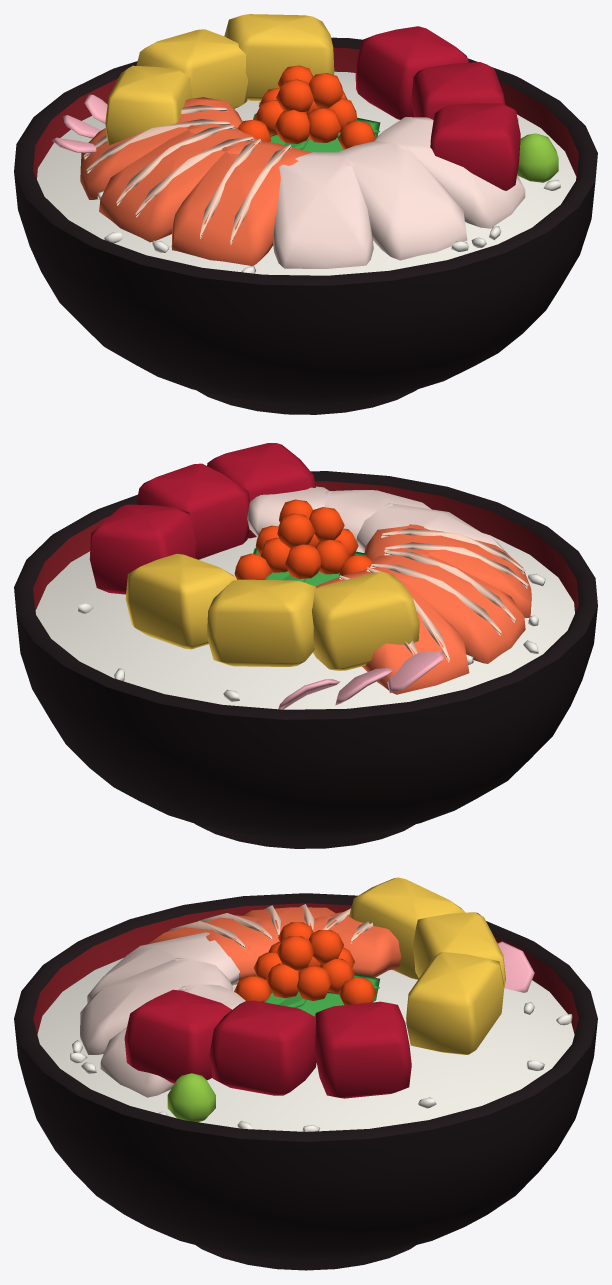
The picture shows the model from 3 angles, top to bottom: view 1: azimuth 30°, elevation 25°; view 2: azimuth 150°, elevation 25°; view 3: azimuth 270°, elevation 25°; orthographic projection.
Visible parts, largest first — view 1: bowl_outer, whitefish (×3), salmon (×3), tamago (×3), tuna (×3), rice, bowl_rim, ikura (×6), salmon_fat (×5), bowl_inner, wasabi, shiso; view 2: bowl_outer, rice, tamago (×3), tuna (×3), salmon (×3), bowl_rim, whitefish (×3), bowl_inner, ikura (×6), salmon_fat (×4), ginger (×3); view 3: bowl_outer, rice, tuna (×3), tamago (×3), bowl_rim, whitefish (×3), salmon (×3), ikura (×7), bowl_inner, wasabi, ginger, shiso.
Part boxes in pixels (box(x1,y1,x2,y2)): bowl_outer: box(14, 172, 595, 414); whitefish (×3): box(273, 117, 525, 268); salmon (×3): box(80, 97, 311, 265); tamago (×3): box(105, 14, 334, 145); tuna (×3): box(355, 26, 520, 190); rice: box(37, 71, 576, 275); bowl_rim: box(14, 37, 597, 285); ikura (×6): box(254, 73, 375, 149); salmon_fat (×5): box(86, 119, 291, 244); bowl_inner: box(33, 48, 578, 179); wasabi: box(517, 133, 558, 182); shiso: box(269, 117, 380, 152); bowl_outer: box(16, 606, 597, 848); rice: box(35, 533, 574, 709); tamago (×3): box(125, 553, 419, 670); tuna (×3): box(89, 443, 315, 594); salmon (×3): box(315, 524, 531, 694); bowl_rim: box(14, 471, 597, 719); whitefish (×3): box(247, 486, 509, 555); bowl_inner: box(33, 481, 578, 614); ikura (×6): box(234, 507, 349, 579); salmon_fat (×4): box(370, 528, 528, 635); ginger (×3): box(278, 651, 443, 709); bowl_outer: box(14, 1019, 597, 1270); rice: box(37, 958, 574, 1131); tuna (×3): box(124, 989, 411, 1098); tamago (×3): box(349, 877, 505, 1054); bowl_rim: box(14, 893, 597, 1141); whitefish (×3): box(80, 932, 245, 1097); salmon (×3): box(149, 907, 401, 984); ikura (×7): box(234, 930, 376, 1005); bowl_inner: box(33, 903, 578, 1033); wasabi: box(167, 1073, 215, 1122); ginger: box(497, 941, 534, 992); shiso: box(261, 973, 379, 1016).
Bounding box in the file's own units: 0.184 × 0.0988 × 0.184.
